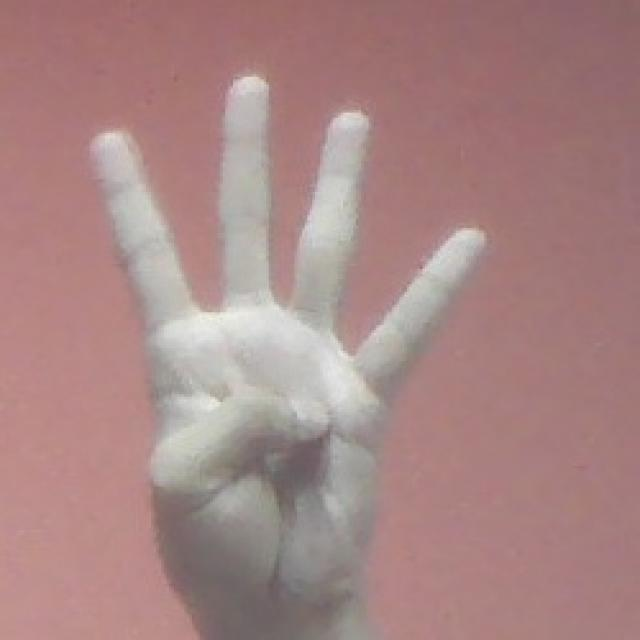Numeric-4: (95, 74, 487, 624)
